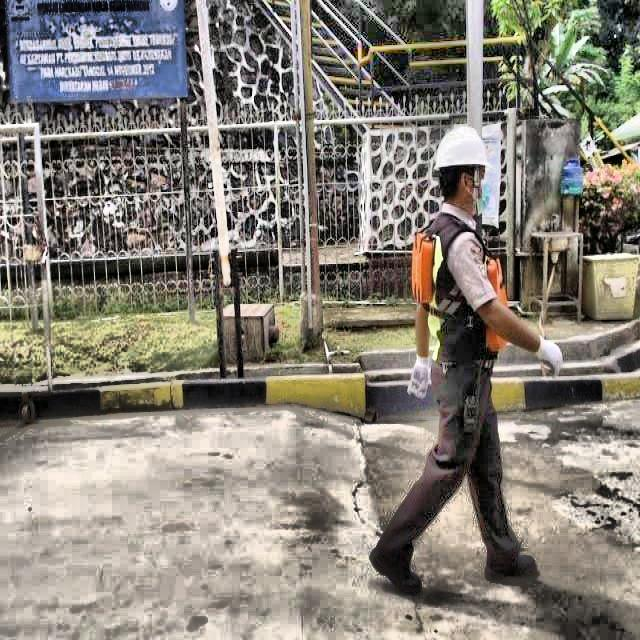safety_jacket: (410, 213, 511, 361)
